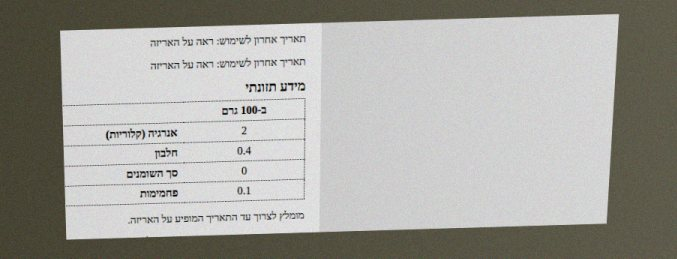carbs: (236, 183, 252, 198)
energy: (240, 123, 248, 138)
fat: (240, 163, 248, 178)
protein: (236, 143, 253, 158)
